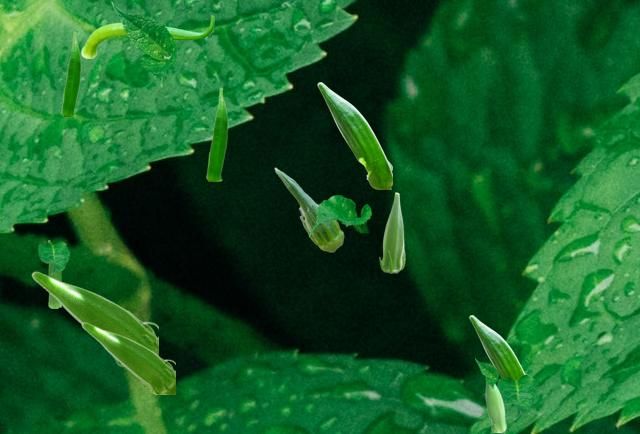okra: (31, 271, 157, 367), (317, 82, 391, 188), (81, 322, 174, 393), (274, 167, 343, 251), (81, 15, 213, 57), (469, 315, 525, 379), (379, 192, 404, 272), (206, 87, 227, 180), (61, 31, 80, 115), (485, 377, 505, 431), (48, 240, 60, 307)
